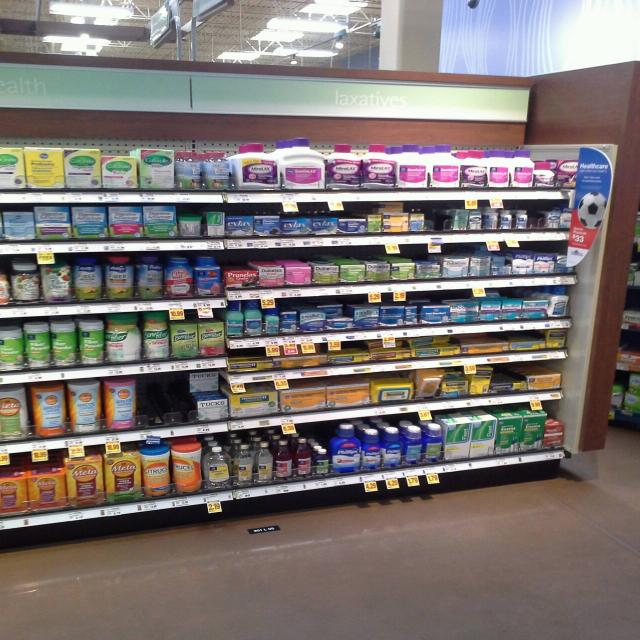void: (144, 375, 184, 437), (429, 205, 448, 243)
